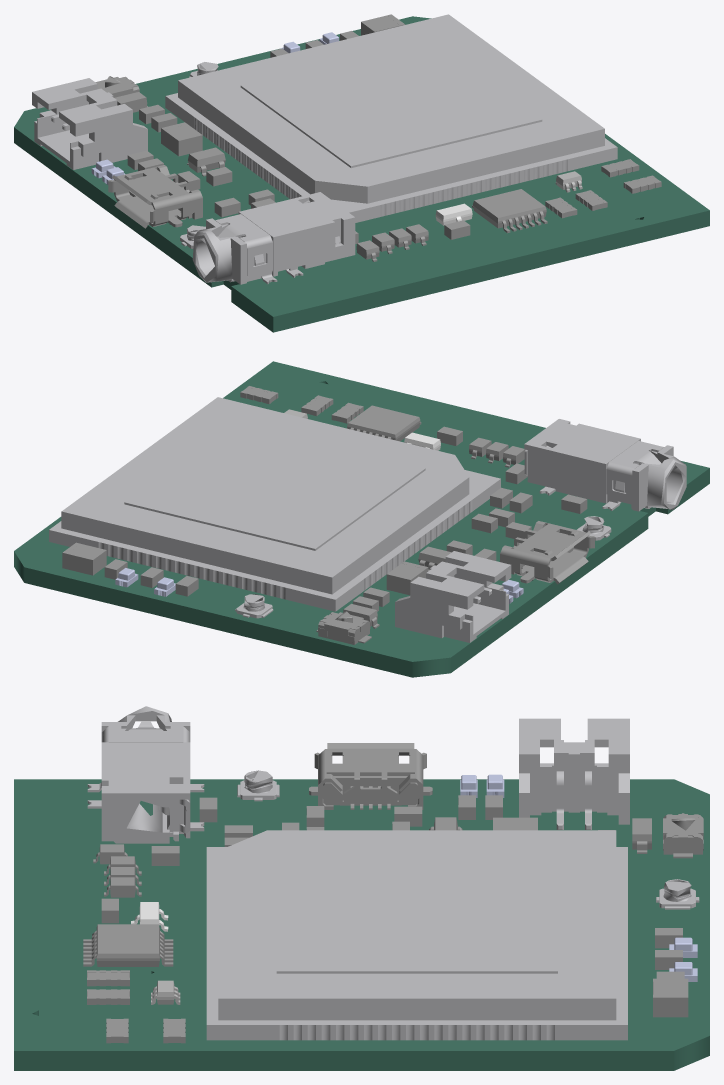
File: ada-2687.glb
The picture shows the model from 3 angles, top to bottom: view 1: azimuth 30°, elevation 25°; view 2: azimuth 150°, elevation 25°; view 3: azimuth 270°, elevation 25°; orthographic projection. The views are drawn at different scales.
Visible parts, largest first — view 1: 0.5833333333333334_0.5833333333333334_0.5833333333333334_0.8, 0.08333333333333333_0.16666666666666666_0.16666666666666666_, 0.3333333333333333_0.3333333333333333_0.3333333333333333_0, 0.5833333333333334_0.6666666666666666_0.8333333333333334_0, 0.9166666666666666_0.9166666666666666_0.9166666666666666_0.8; view 2: 0.5833333333333334_0.5833333333333334_0.5833333333333334_0.8, 0.08333333333333333_0.16666666666666666_0.16666666666666666_, 0.3333333333333333_0.3333333333333333_0.3333333333333333_0, 0.5833333333333334_0.6666666666666666_0.8333333333333334_0; view 3: 0.5833333333333334_0.5833333333333334_0.5833333333333334_0.8, 0.08333333333333333_0.16666666666666666_0.16666666666666666_, 0.3333333333333333_0.3333333333333333_0.3333333333333333_0, 0.5833333333333334_0.6666666666666666_0.8333333333333334_0, 0.9166666666666666_0.9166666666666666_0.9166666666666666_0.8, 0.5_0.5_0.5_0.85.
Boxes of the visible parts, left/top/right/bottom form: 0.5833333333333334_0.5833333333333334_0.5833333333333334_0.8: left=32, top=14, right=617, bottom=284; 0.08333333333333333_0.16666666666666666_0.16666666666666666_: left=14, top=16, right=709, bottom=332; 0.3333333333333333_0.3333333333333333_0.3333333333333333_0: left=95, top=14, right=661, bottom=261; 0.5833333333333334_0.6666666666666666_0.8333333333333334_0: left=91, top=32, right=339, bottom=184; 0.9166666666666666_0.9166666666666666_0.9166666666666666_0.8: left=435, top=203, right=472, bottom=225; 0.5833333333333334_0.5833333333333334_0.5833333333333334_0.8: left=49, top=397, right=686, bottom=642; 0.08333333333333333_0.16666666666666666_0.16666666666666666_: left=14, top=361, right=709, bottom=677; 0.3333333333333333_0.3333333333333333_0.3333333333333333_0: left=62, top=386, right=594, bottom=644; 0.5833333333333334_0.6666666666666666_0.8333333333333334_0: left=115, top=568, right=523, bottom=603; 0.5833333333333334_0.5833333333333334_0.5833333333333334_0.8: left=87, top=706, right=699, bottom=1040; 0.08333333333333333_0.16666666666666666_0.16666666666666666_: left=14, top=779, right=709, bottom=1070; 0.3333333333333333_0.3333333333333333_0.3333333333333333_0: left=83, top=743, right=703, bottom=1043; 0.5833333333333334_0.6666666666666666_0.8333333333333334_0: left=460, top=774, right=697, bottom=981; 0.9166666666666666_0.9166666666666666_0.9166666666666666_0.8: left=131, top=902, right=168, bottom=931; 0.5_0.5_0.5_0.85: left=151, top=980, right=180, bottom=1004.
Bounding box in the file's own units: 4.75 × 0.9072 × 4.95.
